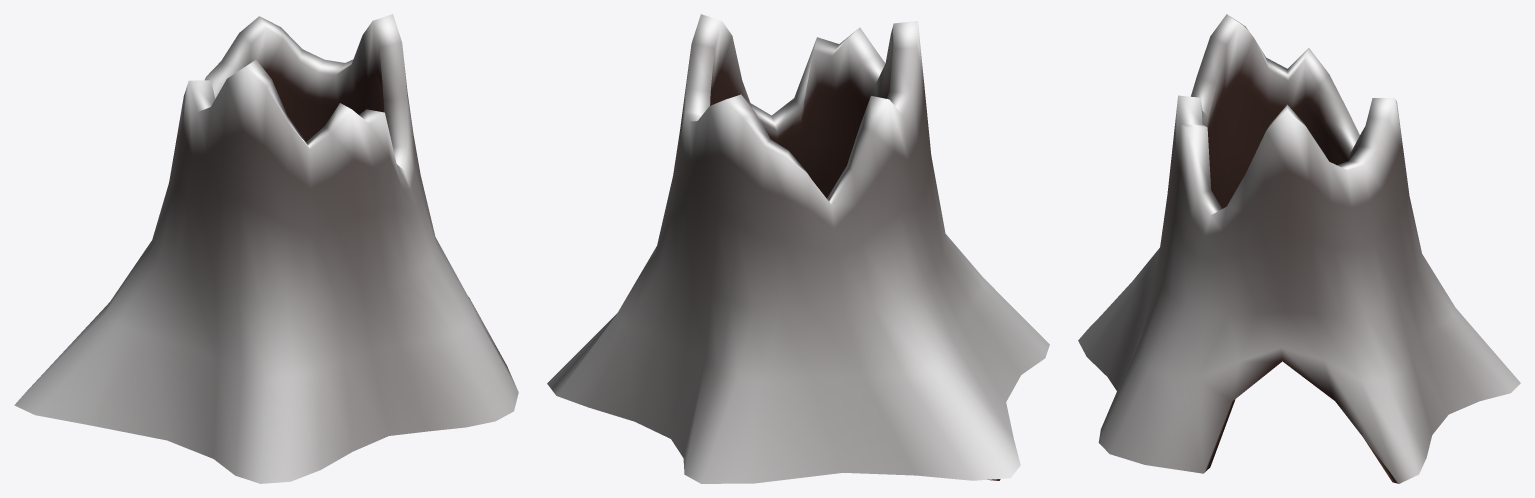
Rendered from TreeWithHole.fbx.
The picture shows the model from 3 angles, left to right: view 1: azimuth 30°, elevation 25°; view 2: azimuth 150°, elevation 25°; view 3: azimuth 270°, elevation 25°; orthographic projection. The views are drawn at different scales.
Visible parts, largest first — view 1: Big Tree; view 2: Big Tree; view 3: Big Tree.
Part boxes in pixels (x1=…): Big Tree: x1=14, y1=14, x2=518, y2=483; Big Tree: x1=547, y1=14, x2=1049, y2=483; Big Tree: x1=1078, y1=14, x2=1520, y2=483.
Bounding box in the file's own units: 2096 × 1672 × 1921.
